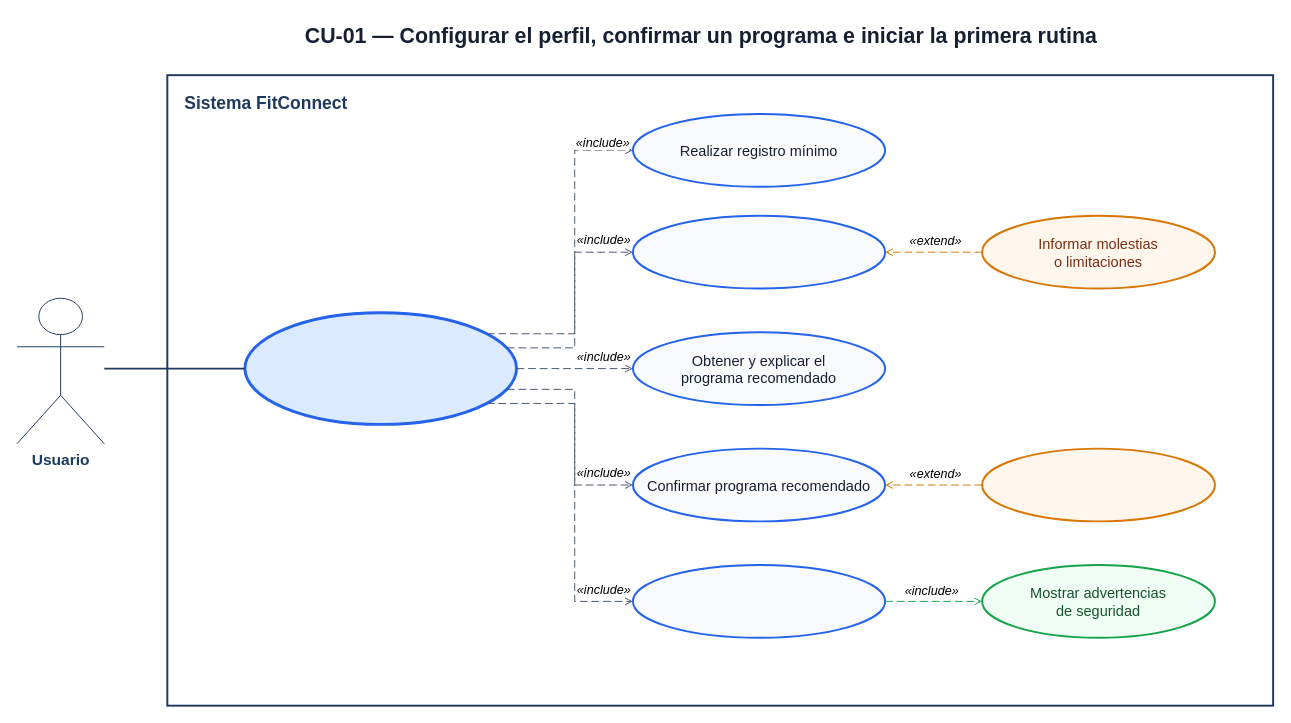
Image size: 1291x723. Some labels were removed from this diagram. The centre of each missing label's shape, as x and y in pixels:
"Configurar el perfil, confirmar un programa e iniciar la primera rutina" goes at (380,368).
"Configurar perfil" goes at (758,251).
"Iniciar la primera rutina" goes at (758,601).
"Seleccionar otro programa" goes at (1098,484).
